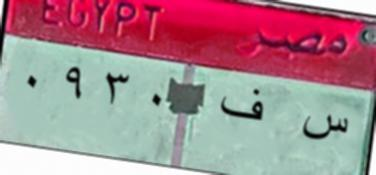0: (141, 84, 172, 118), (20, 66, 52, 98)
3: (100, 66, 136, 108)
9: (64, 63, 88, 104)
faa: (214, 86, 273, 125)
seen: (293, 110, 354, 146)
